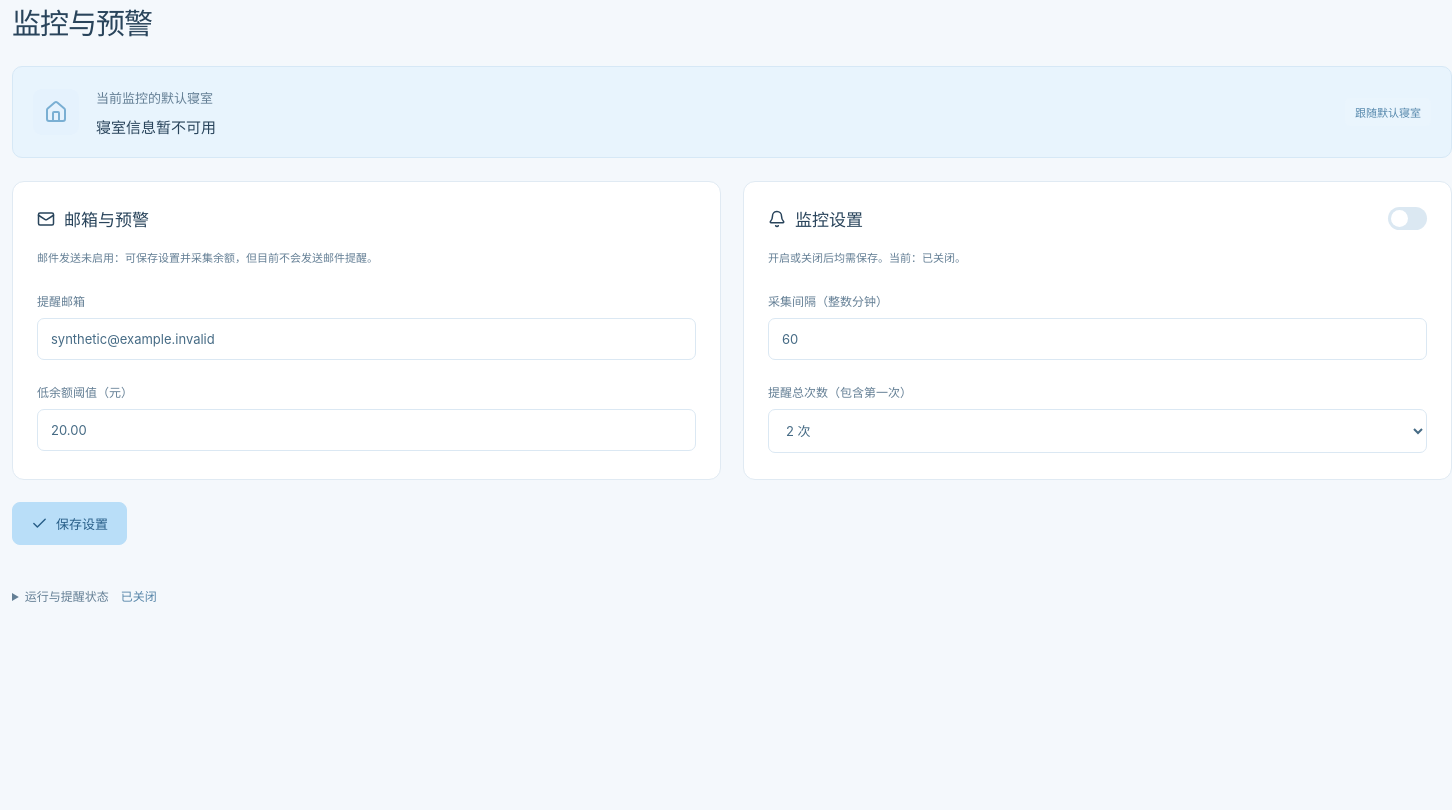
Scenario: 409 SCHOOL_REAUTH_REQUIRED 保留对应引导，不要求确认版本
What coordinates should you click on to do the following:
click the checkbox named "启用监控"
I would click on:
 (1408, 219)
Its box is [1388, 207, 1427, 230].
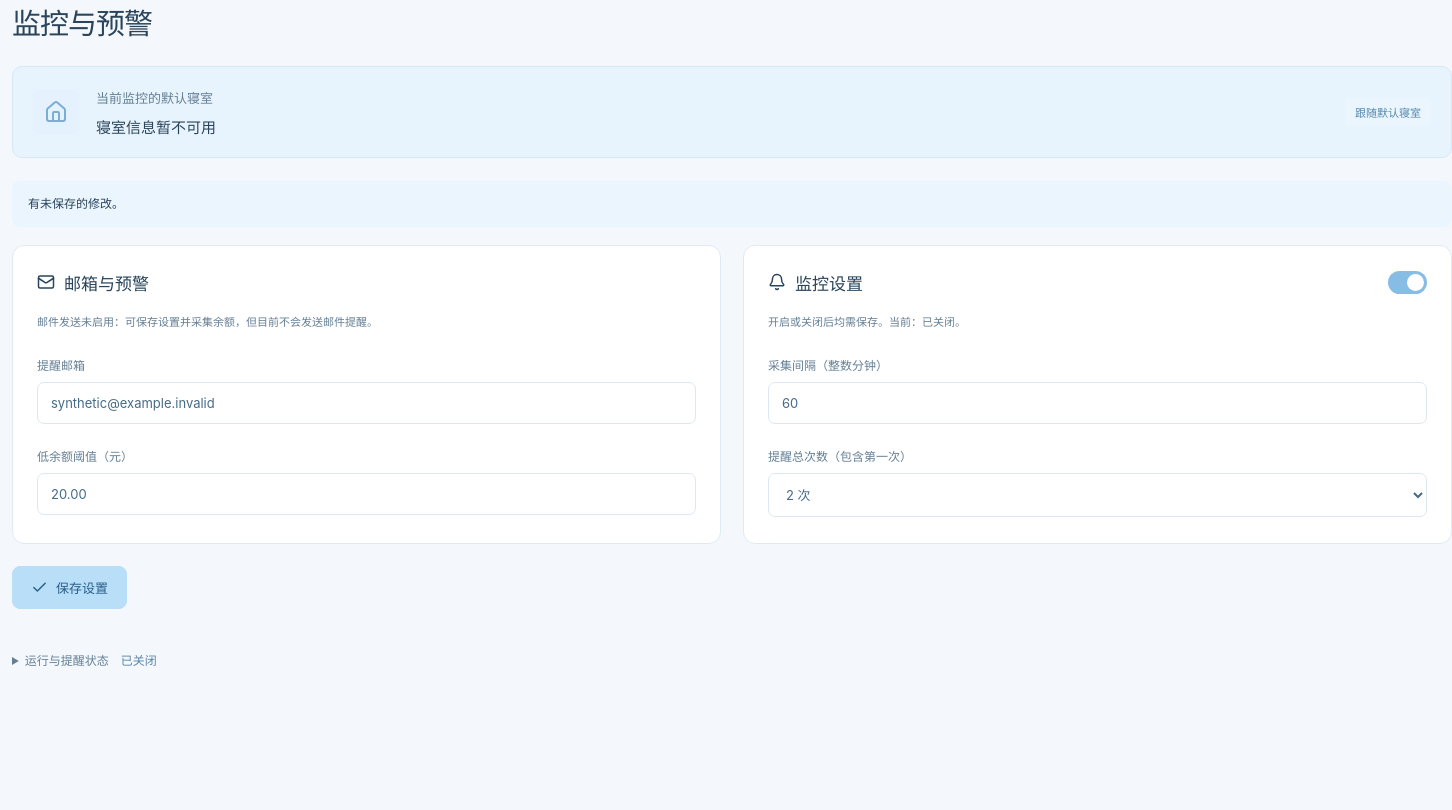
What coordinates should you click on to do the following:
click the button "保存设置"
I would click on:
 (70, 587)
Its box is [12, 566, 127, 609].
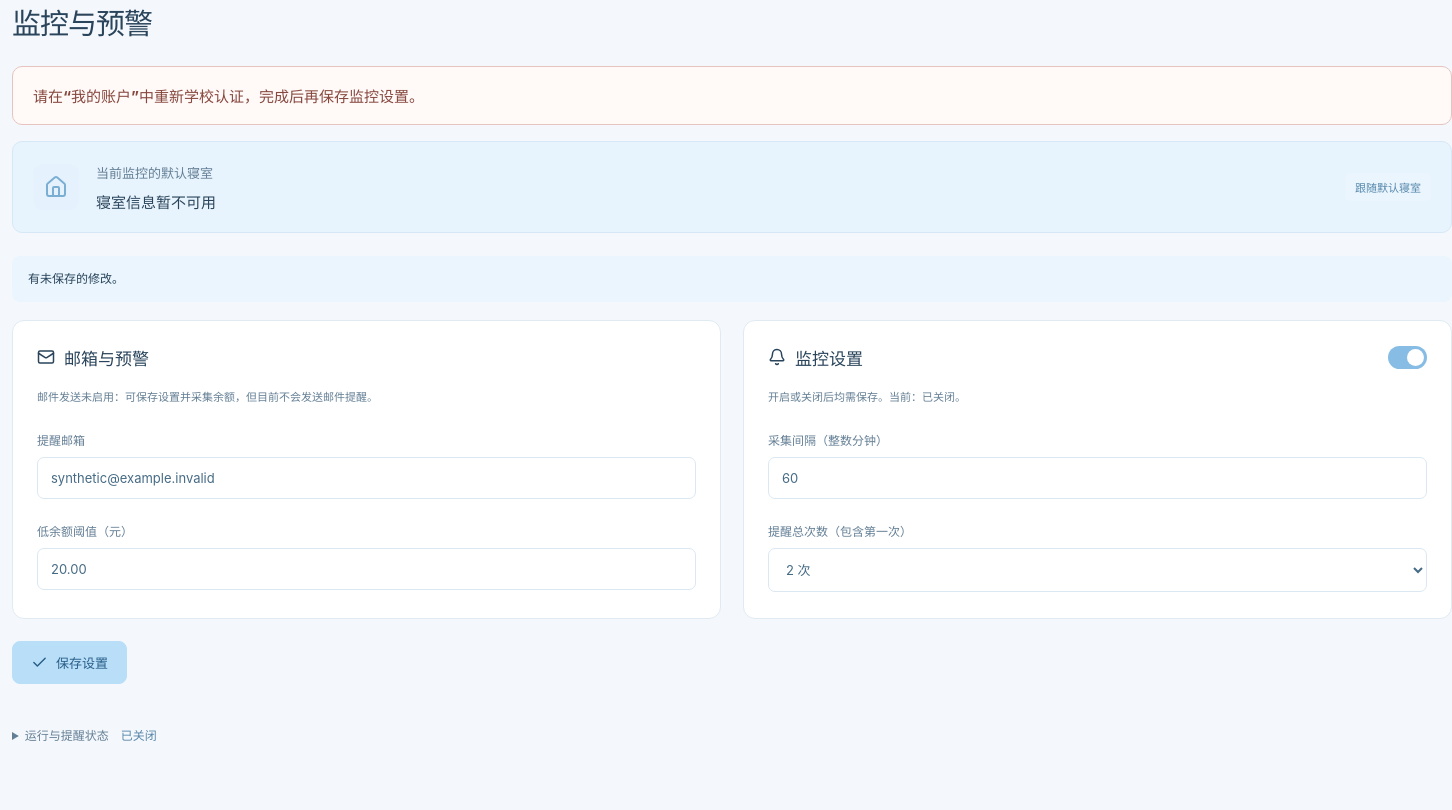
Now the checkbox named "启用监控" is checked, box [1388, 346, 1427, 369]
Now the heading "请在“我的账户”中重新学校认证，完成后再保存监控设置。" is shown, box [33, 87, 424, 106]
